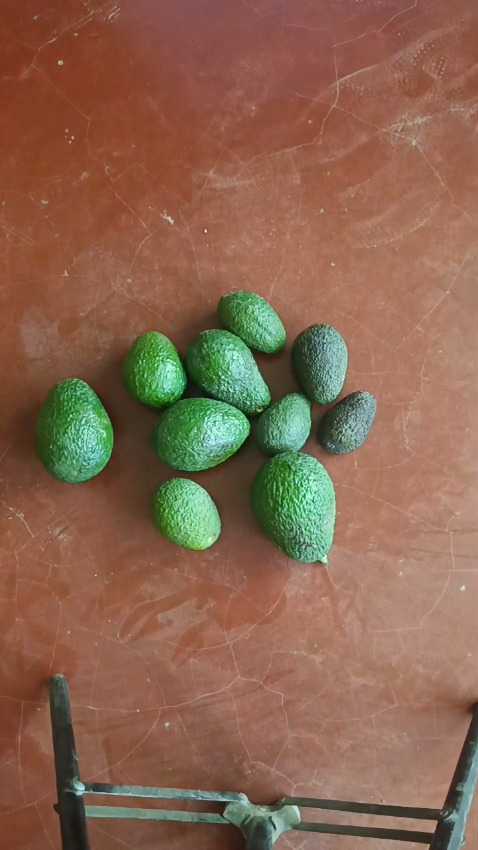Primera: (250, 453, 335, 562), (33, 378, 114, 482)
Segunda: (184, 329, 269, 414), (152, 398, 250, 471)
Tercera: (150, 477, 222, 551), (122, 331, 188, 409), (291, 323, 348, 404), (216, 290, 286, 354), (316, 390, 376, 454), (253, 392, 312, 456)
